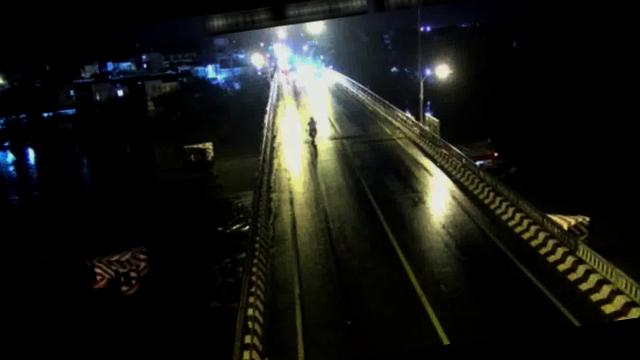Bike: (304, 116, 318, 146)
